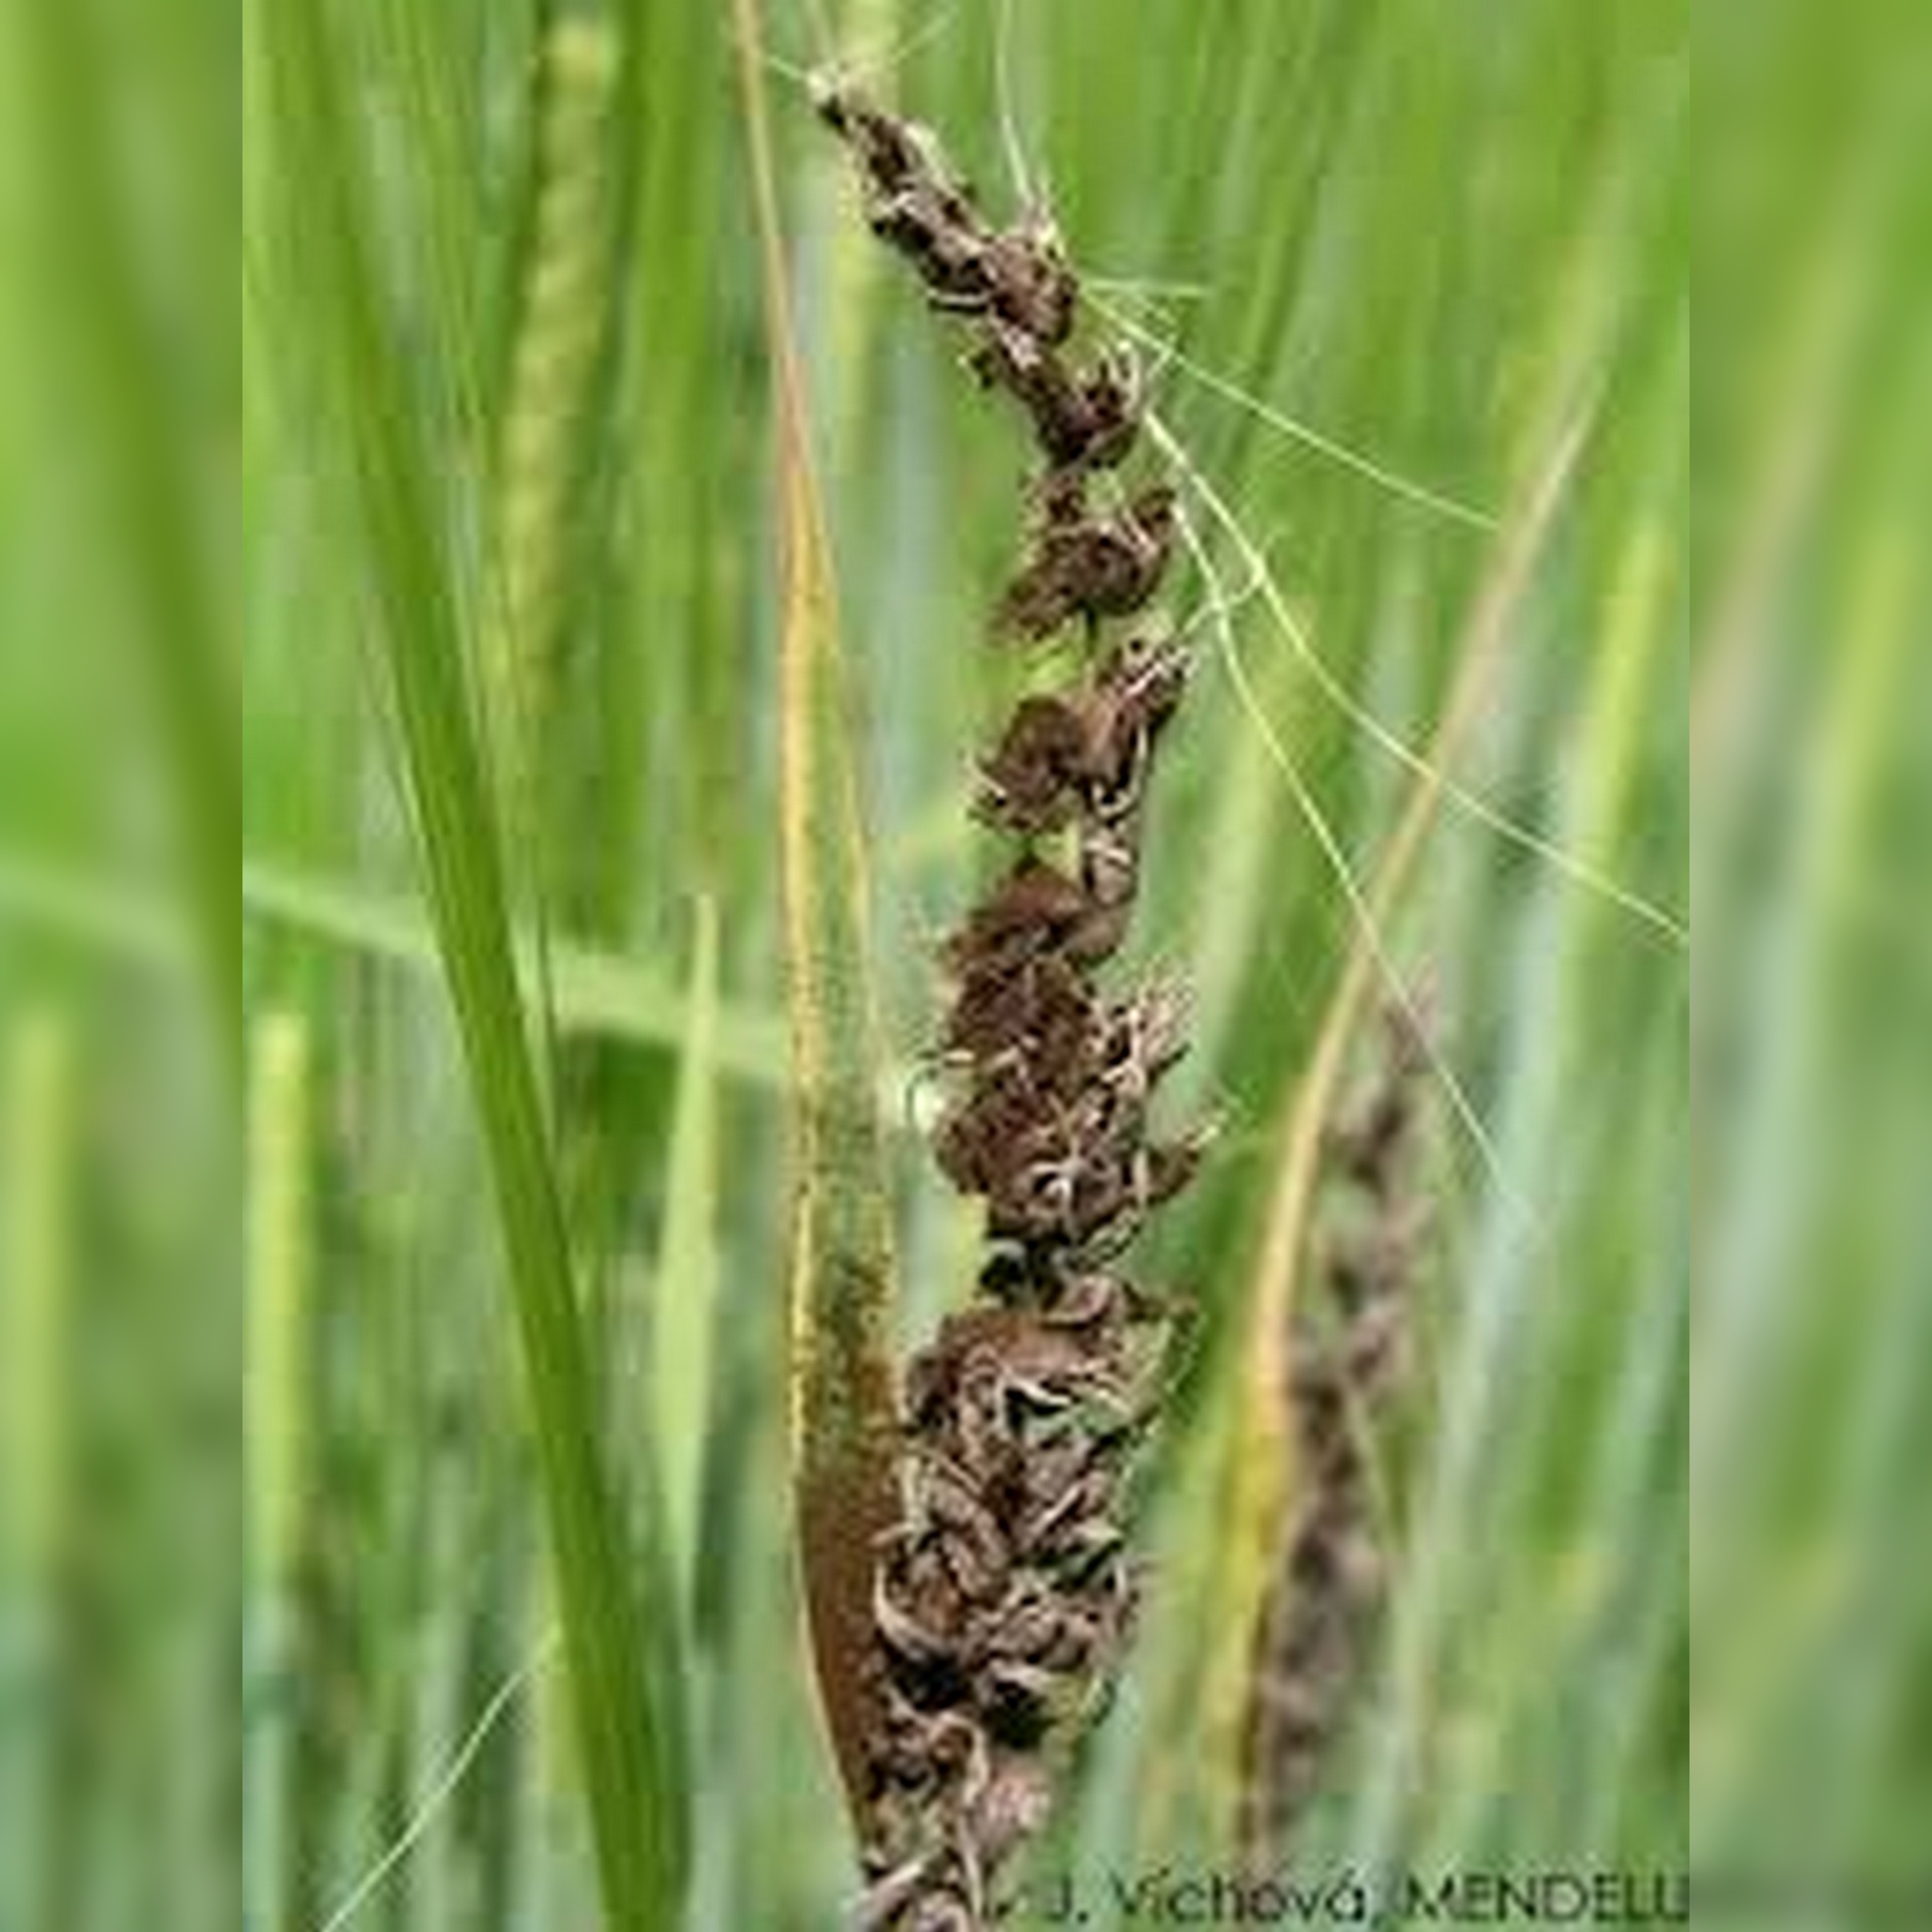Wheat Loose Smut: (763, 64, 1177, 1725)
